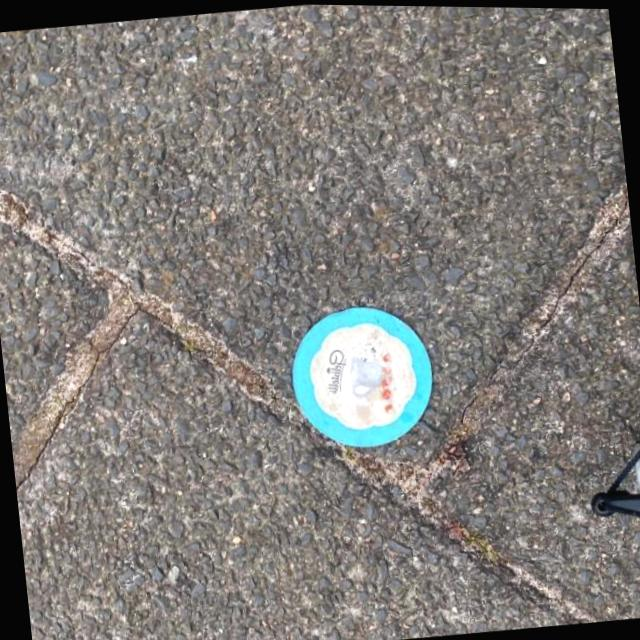Paper: (284, 296, 442, 456)
